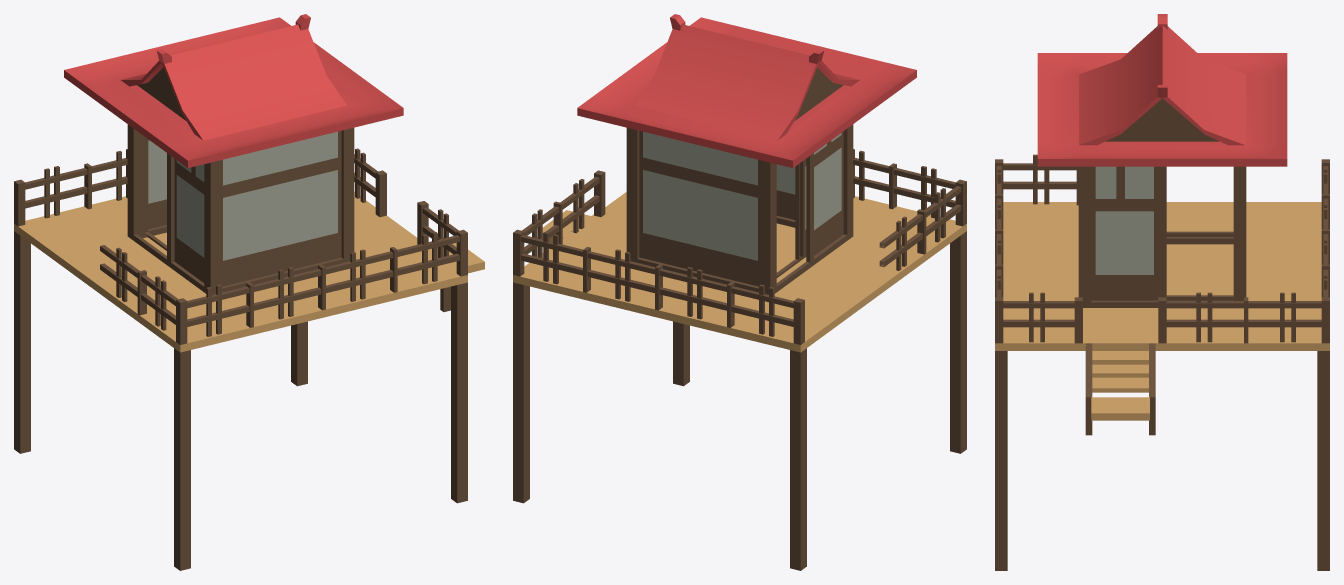
File: HouseSmall.fbx
The picture shows the model from 3 angles, left to right: view 1: azimuth 30°, elevation 25°; view 2: azimuth 150°, elevation 25°; view 3: azimuth 270°, elevation 25°; orthographic projection.
Parts seen in each view (by area): view 1: House; view 2: House; view 3: House.
Part boxes in pixels (x1=…): House: x1=14, y1=14, x2=484, y2=570; House: x1=513, y1=14, x2=966, y2=570; House: x1=995, y1=14, x2=1329, y2=570.
Size of the model in its own units: 490 by 588 by 400.
